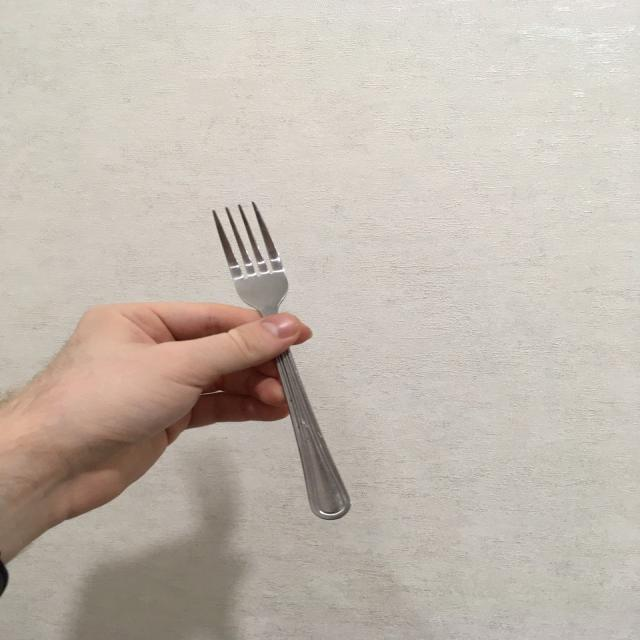fork: (209, 202, 350, 520)
